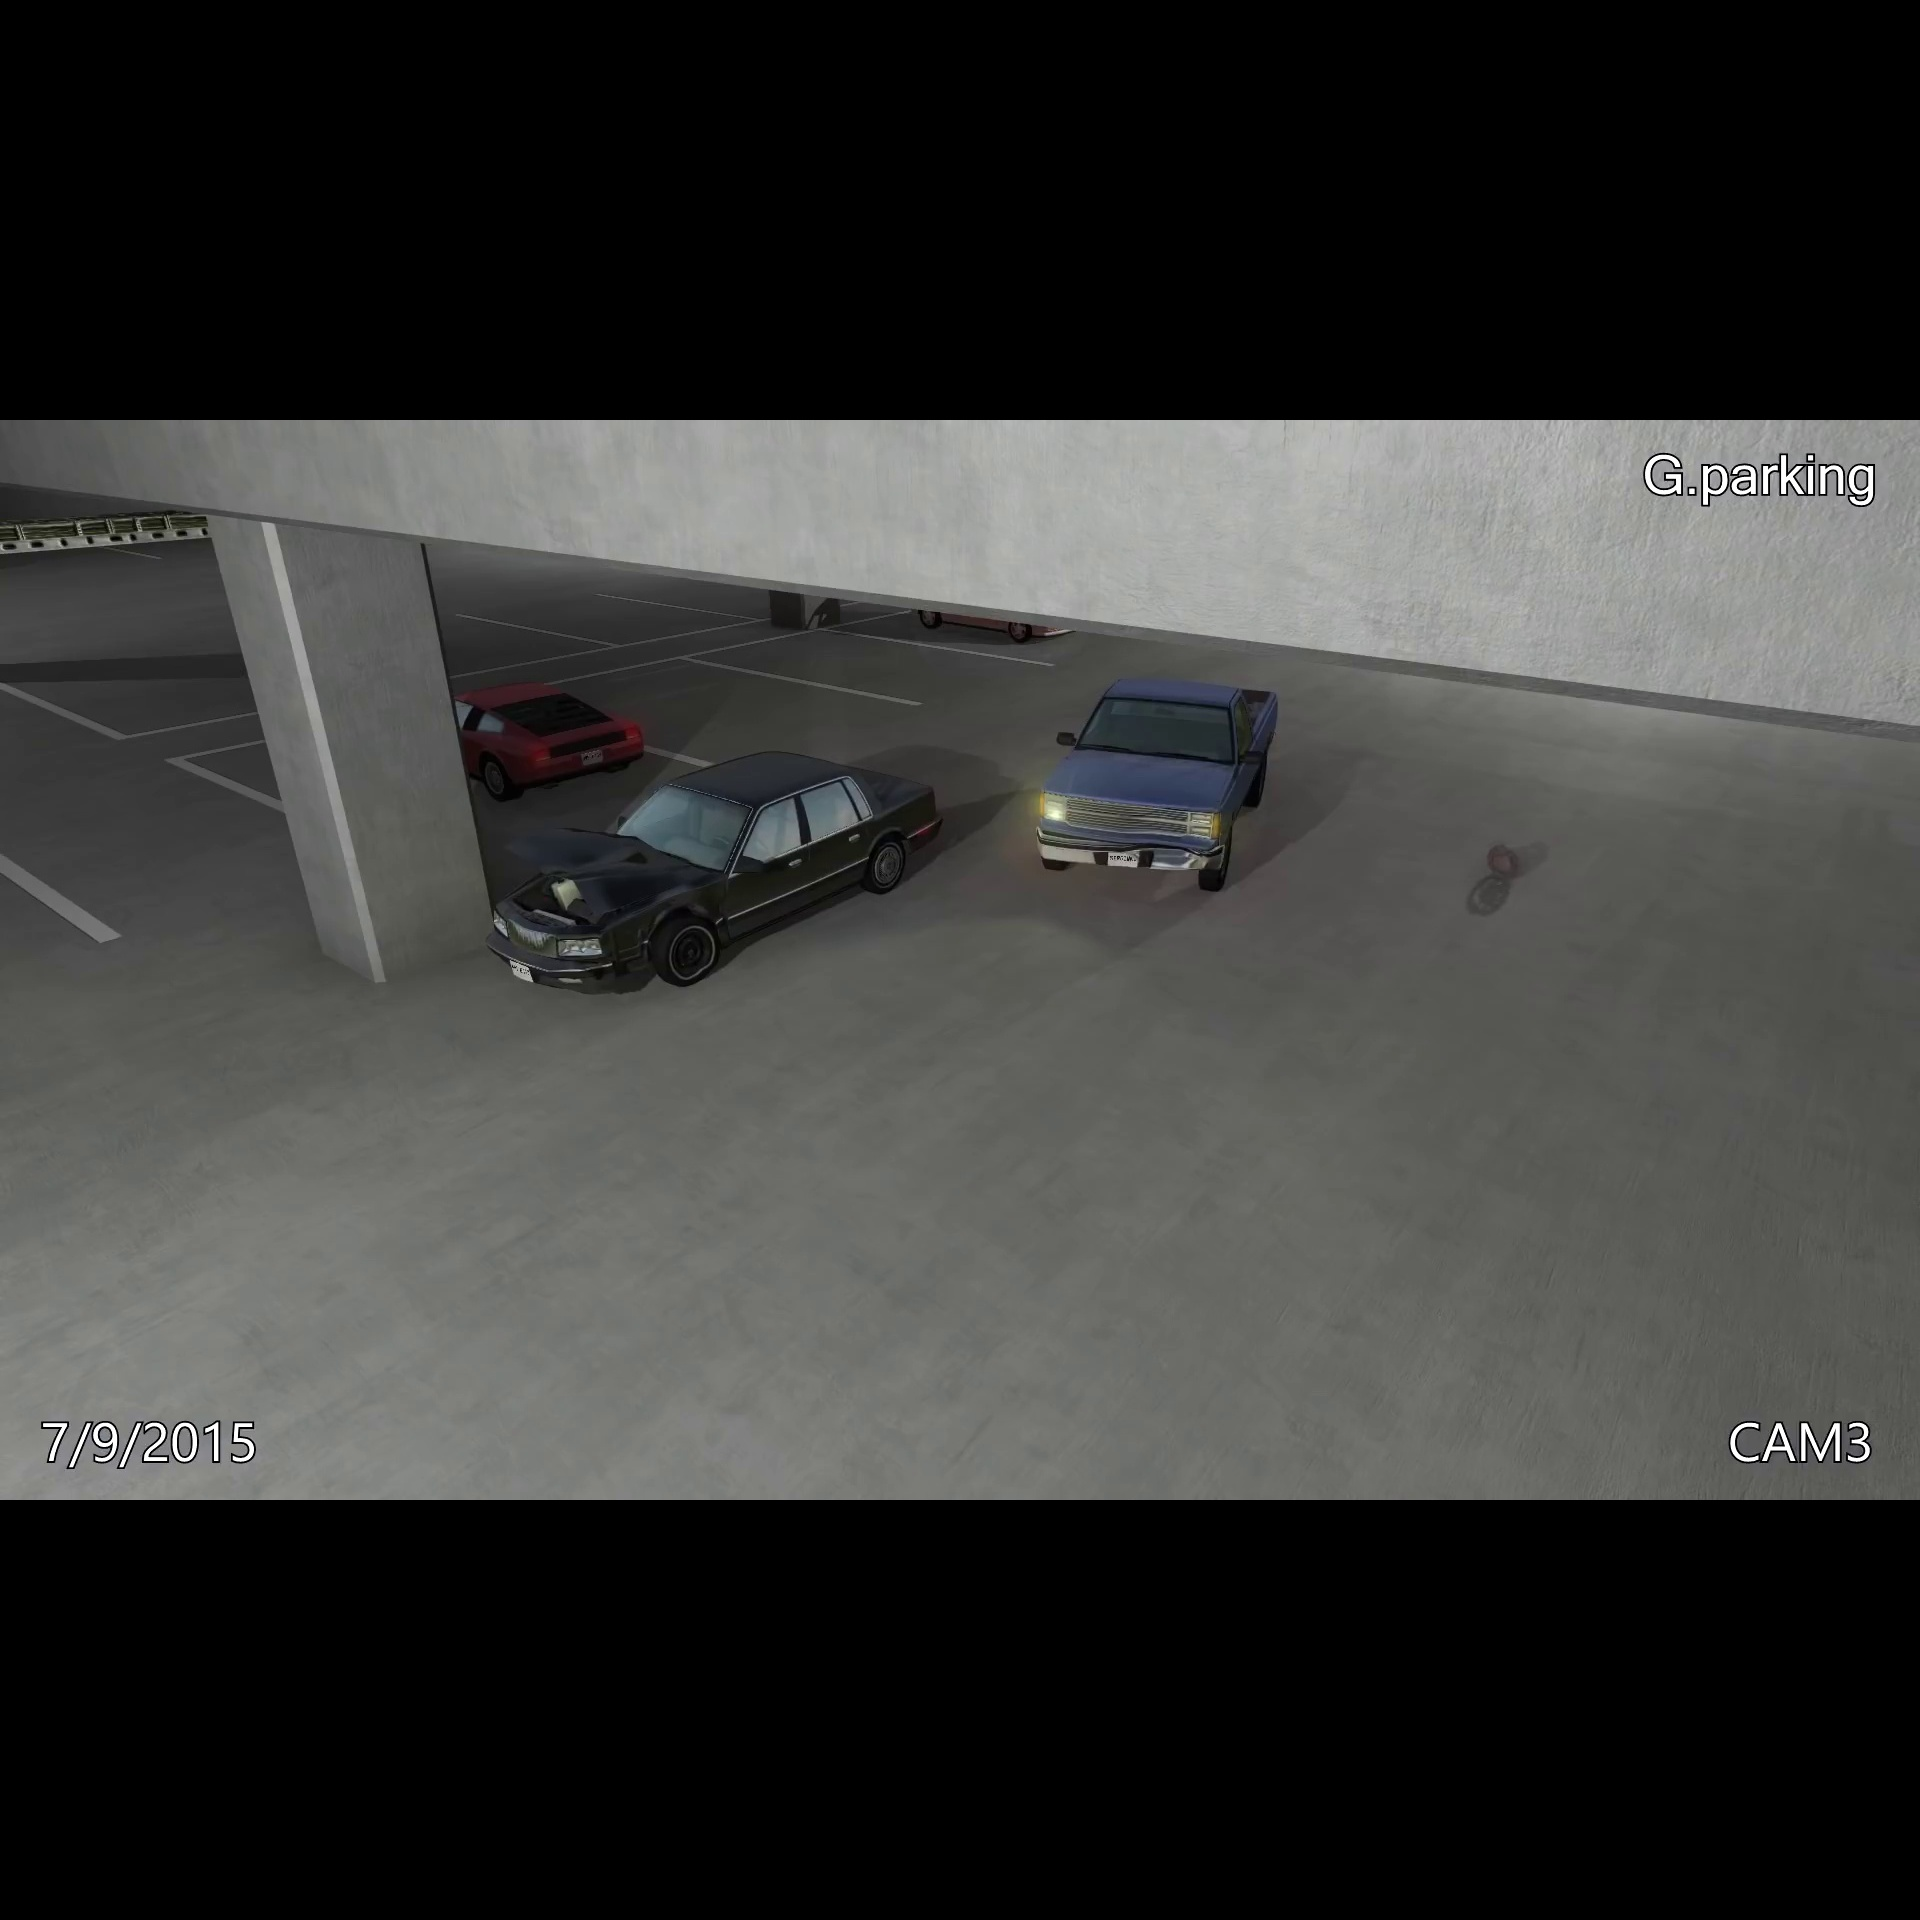vehicle: (478, 745, 948, 1007), (1023, 666, 1294, 907), (431, 677, 652, 807)
